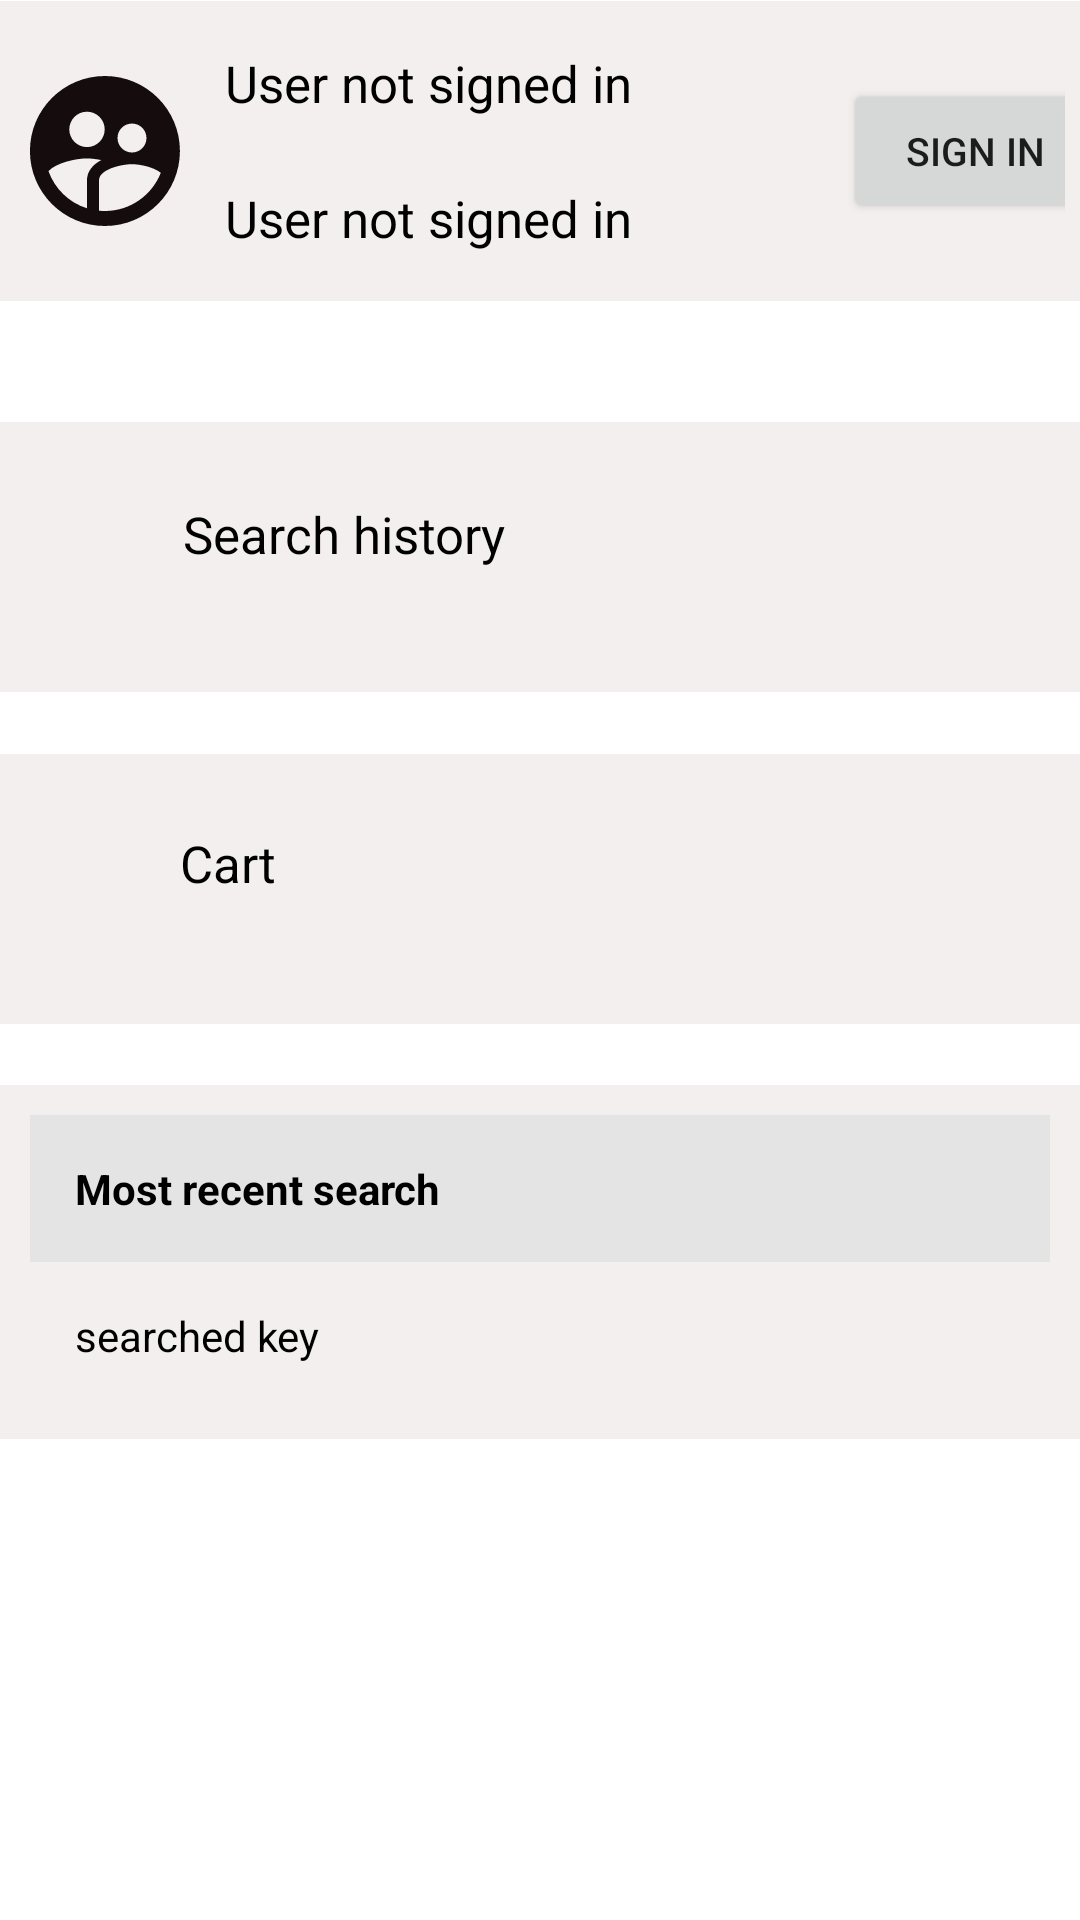

Where to tap for icons on this 1080×1920 app screen, as (x=x, y=y):
supervised user circle: (x=105, y=151)
